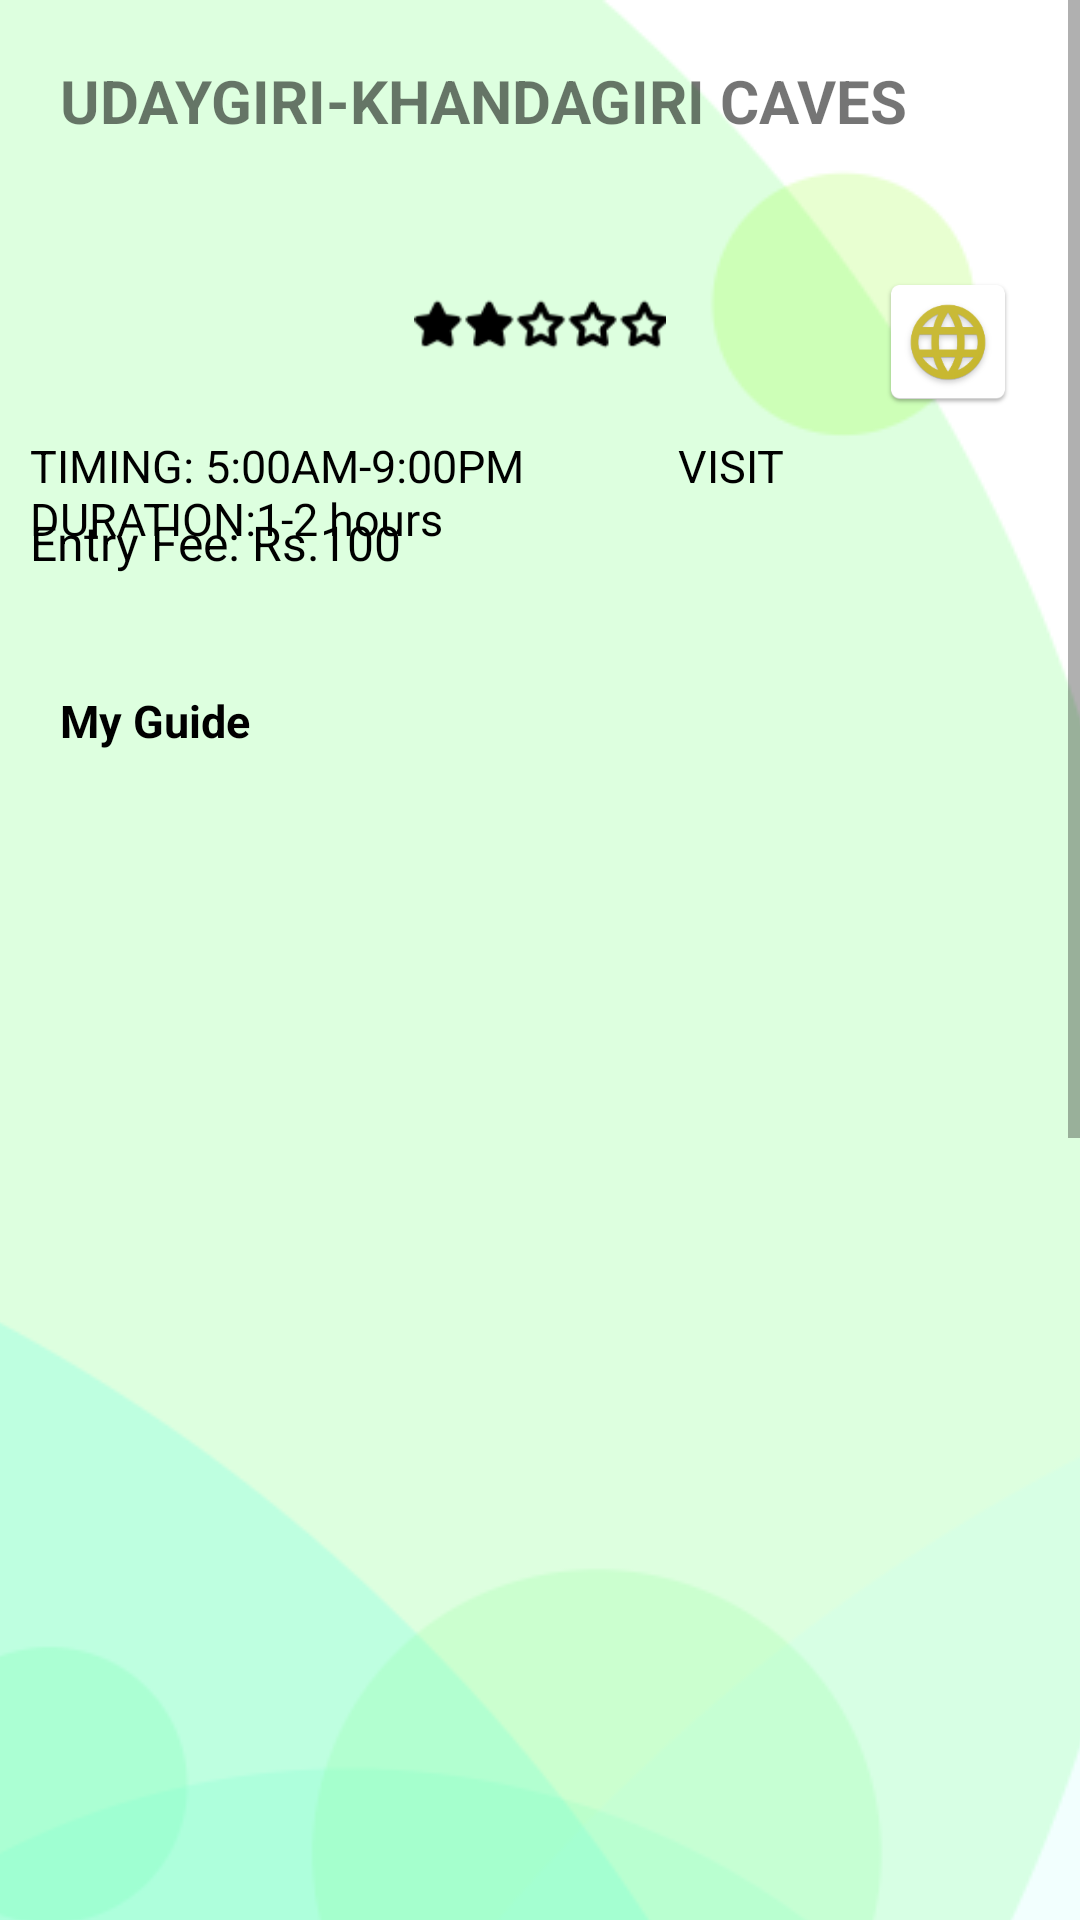

Locate icon controls on the screen. Image size 1080w x 1920h, boxes as (x1, y1, x2, y2).
rating: (414, 300, 666, 348)
